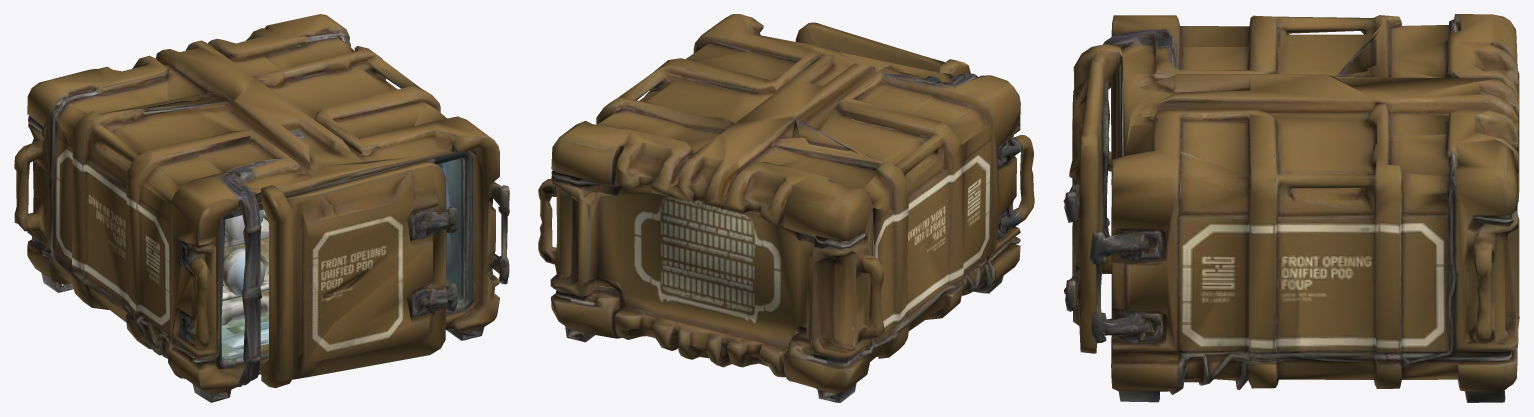
The model's file is Foup.glb.
The picture shows the model from 3 angles, left to right: view 1: azimuth 30°, elevation 25°; view 2: azimuth 150°, elevation 25°; view 3: azimuth 270°, elevation 25°; orthographic projection. The views are drawn at different scales.
Visible parts, largest first — view 1: Mesh_0; view 2: Mesh_0; view 3: Mesh_0.
Boxes of the visible parts, x1,y1,x2,y2 form: Mesh_0: [14, 14, 509, 402]; Mesh_0: [538, 14, 1034, 402]; Mesh_0: [1063, 14, 1519, 402].
Bounding box in the file's own units: 1.9 × 1.1 × 1.88.
Materials: 1 (1 with a texture image).
